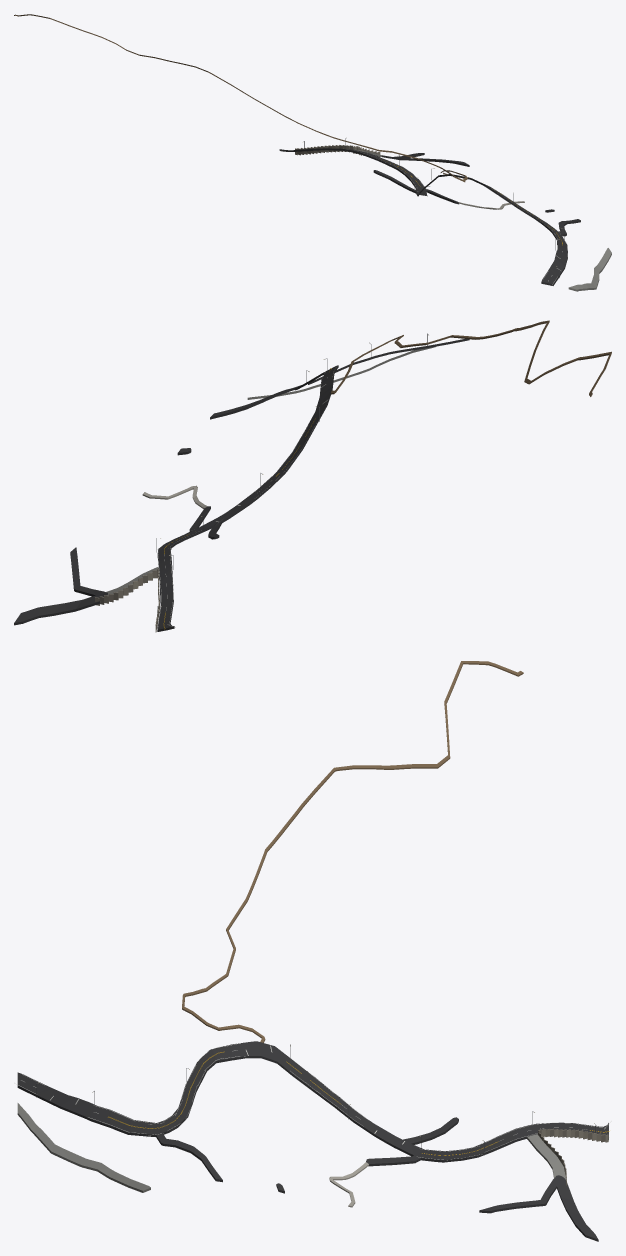
The picture shows the model from 3 angles, top to bottom: view 1: azimuth 30°, elevation 25°; view 2: azimuth 150°, elevation 25°; view 3: azimuth 270°, elevation 25°; orthographic projection. The views are drawn at different scales.
Size of the model in its own units: 293 by 182 by 295.
